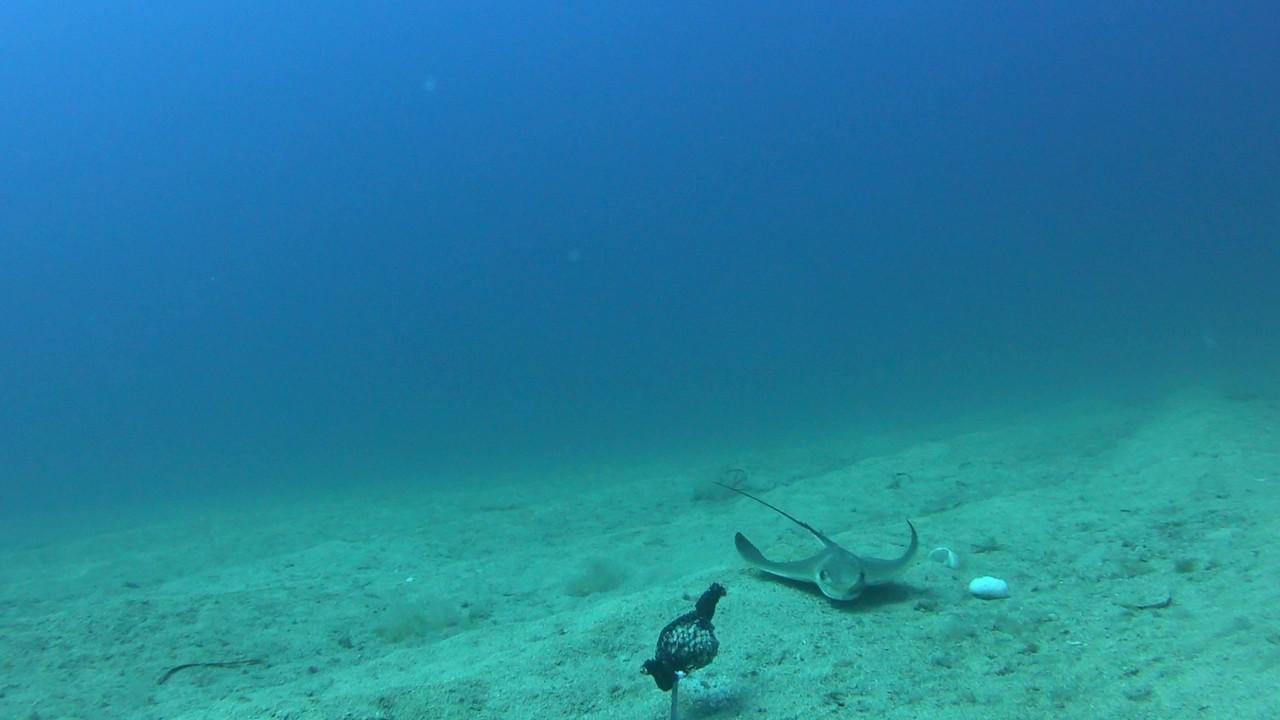myliobatis: (706, 481, 925, 623)
